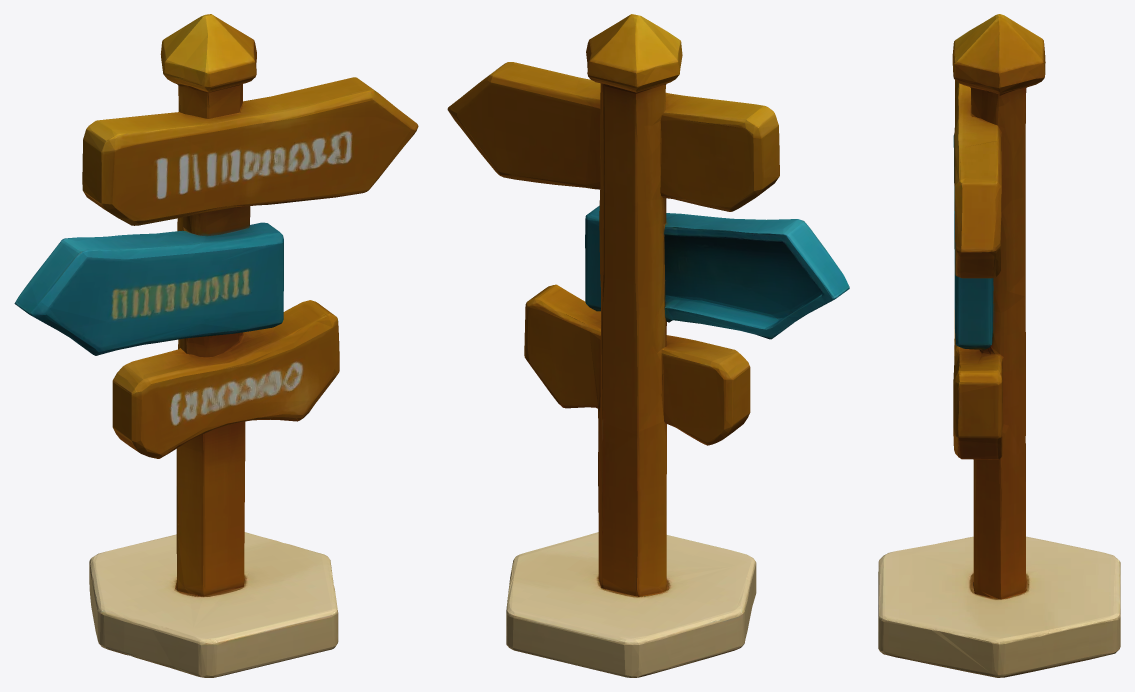
The model's file is triple_sign.glb.
3 renders of one model, left to right at view 1: azimuth 30°, elevation 25°; view 2: azimuth 150°, elevation 25°; view 3: azimuth 270°, elevation 25°, orthographic.
Visible parts, largest first — view 1: geometry_0; view 2: geometry_0; view 3: geometry_0.
Part boxes in pixels (x1,y1,x2,y2): geometry_0: (14,14,418,677); geometry_0: (447,14,849,677); geometry_0: (878,14,1120,677).
Size of the model in its own units: 0.6692 by 0.9999 by 0.3629.
Materials: 1 (1 with a texture image).
